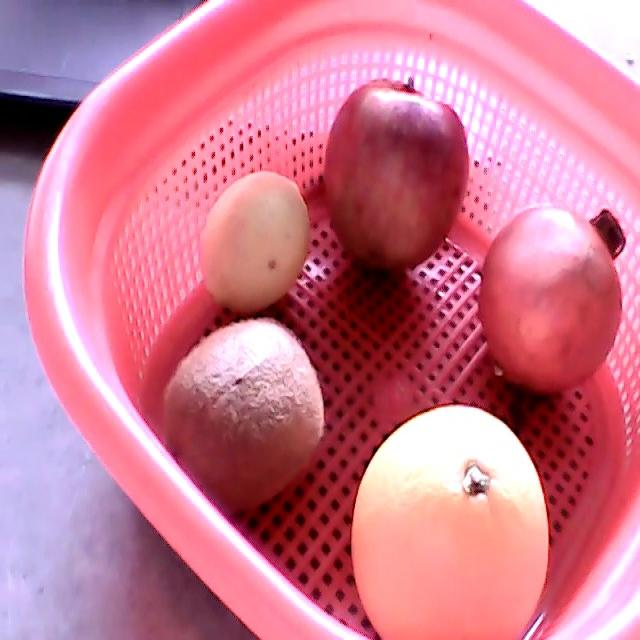apple: (323, 77, 469, 271)
kiwi: (164, 320, 325, 519)
lemon: (200, 171, 309, 317)
orange: (350, 406, 548, 639)
pomegranate: (479, 206, 625, 396)
